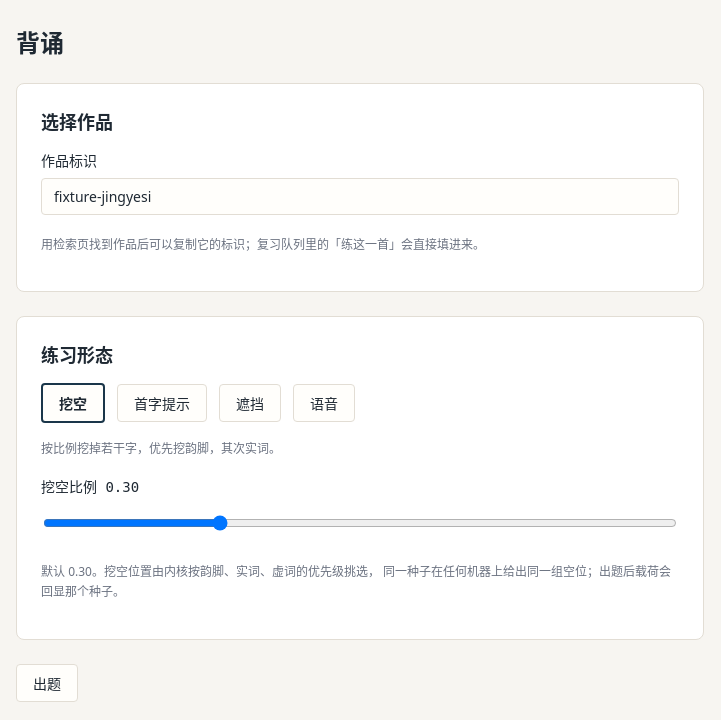
Test: 整局流程 › **提交作答后渲染逐字反馈，并把种子原样带回去**
Click the button with test id "start-session": click(47, 683) [16,664,78,702]
(page scrolled)
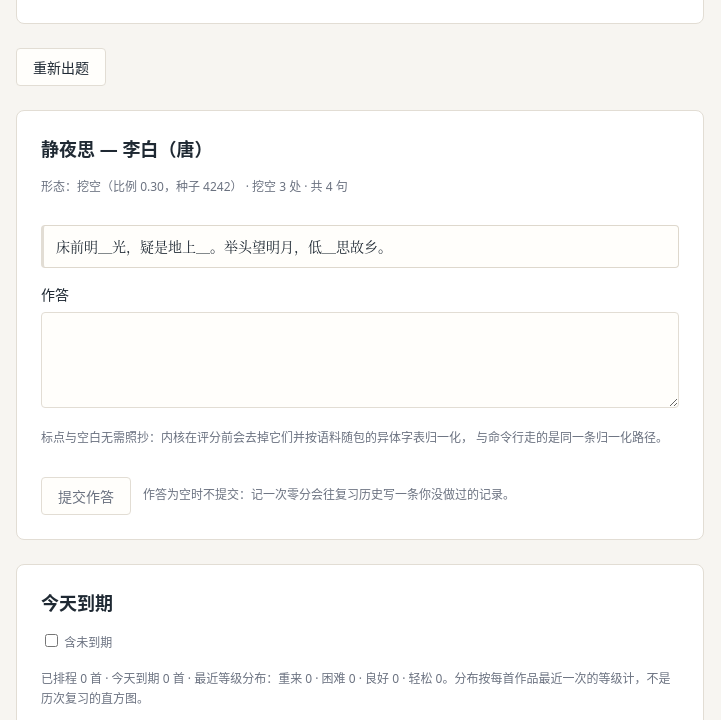
Result: the text "床前明＿光，疑是地上＿。举头望明月，低＿思故乡。" is shown at [41,225,679,268]
In the text box with test id "recite-answer": (360, 360) [41,312,679,408], type "床前明月光，疑是地上霜。举头看明月，低头思故乡。"
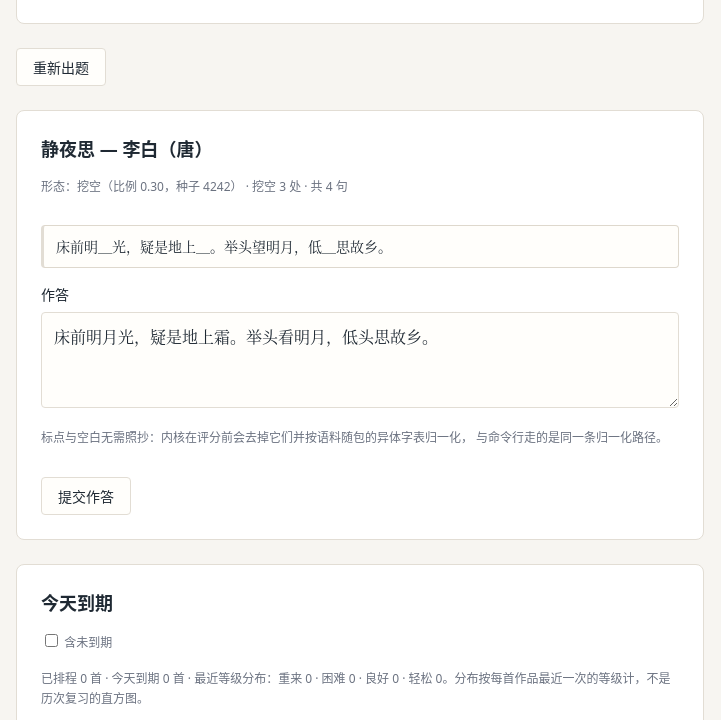
Click the button with test id "submit-answer": click(86, 496) [41,476,131,514]
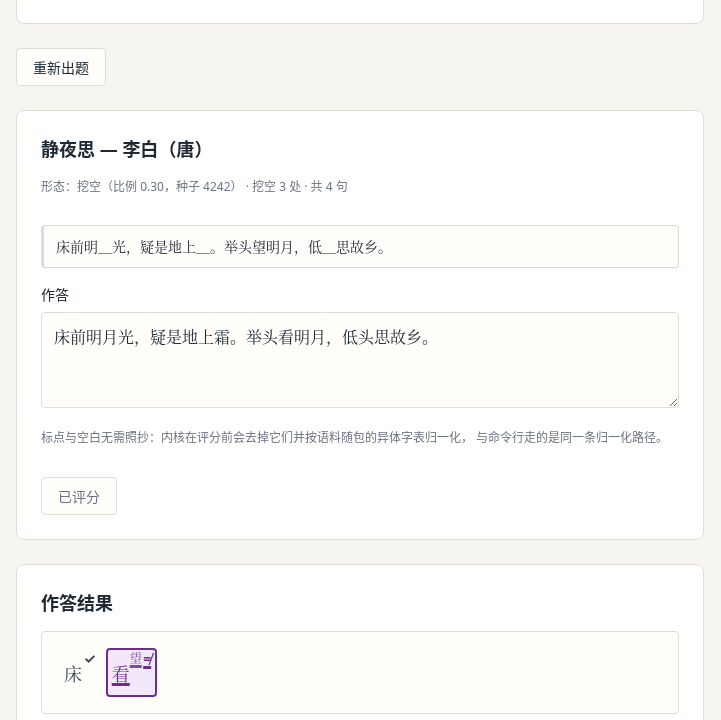
Expected: the text box with test id "recite-answer" is disabled, [41,312,679,408]
Result: the element with test id "op-feedback" is shown at [41,630,679,714]
